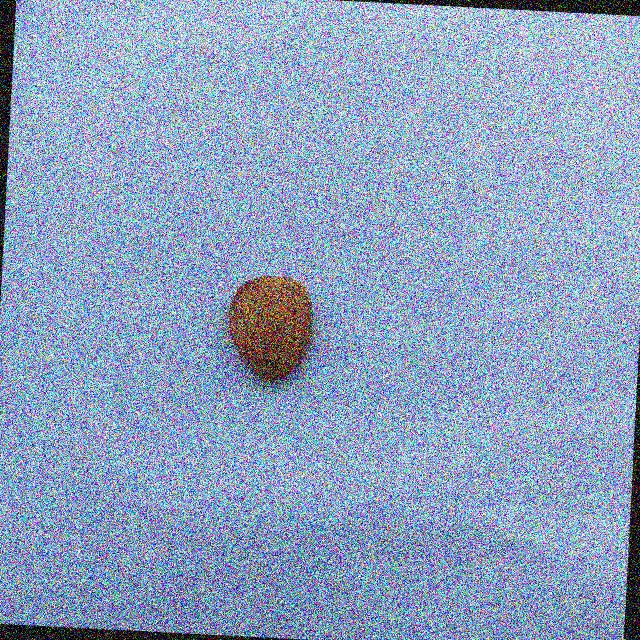grade1: (218, 267, 326, 393)
